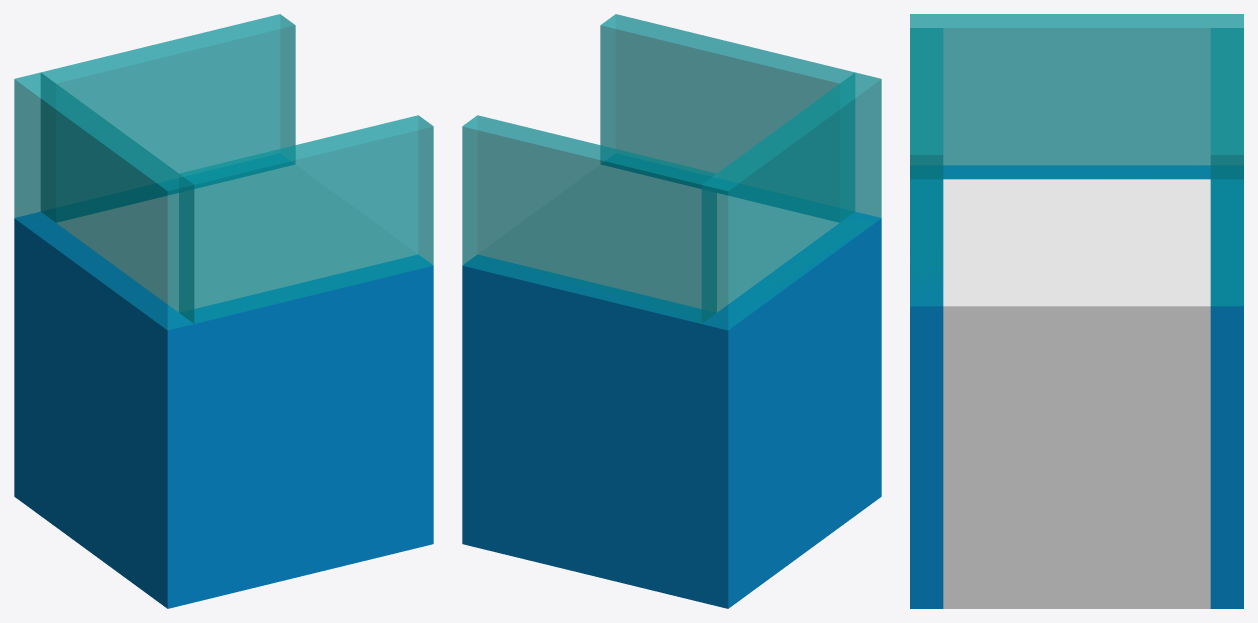
3 renders of one model, left to right at view 1: azimuth 30°, elevation 25°; view 2: azimuth 150°, elevation 25°; view 3: azimuth 270°, elevation 25°, orthographic. The views are drawn at different scales.
Visible parts, largest first — view 1: 1, 立方体.001, 立方体.003, 立方体.002; view 2: 1, 立方体.003, 立方体.001, 立方体.002; view 3: 1, 立方体.002, 立方体.001, 立方体.003.
Part boxes in pixels (bbox=[...]): 1: bbox=[14, 165, 433, 608]; 立方体.001: bbox=[179, 115, 433, 323]; 立方体.003: bbox=[41, 14, 295, 222]; 立方体.002: bbox=[14, 72, 194, 330]; 1: bbox=[462, 165, 881, 608]; 立方体.003: bbox=[462, 115, 716, 323]; 立方体.001: bbox=[600, 14, 854, 222]; 立方体.002: bbox=[701, 72, 881, 330]; 1: bbox=[910, 165, 1243, 608]; 立方体.002: bbox=[910, 14, 1243, 179]; 立方体.001: bbox=[910, 28, 943, 306]; 立方体.003: bbox=[1210, 28, 1243, 306].
Bounding box in the file's own units: 2000 × 3000 × 2000.
